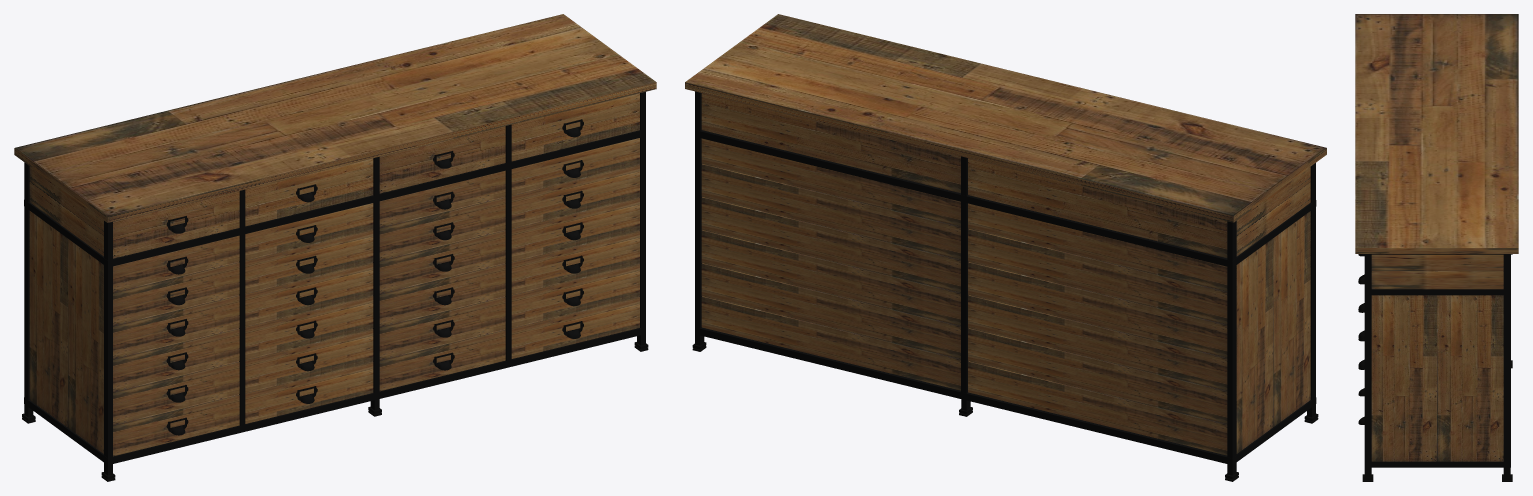
The model's file is example27.glb.
The picture shows the model from 3 angles, left to right: view 1: azimuth 30°, elevation 25°; view 2: azimuth 150°, elevation 25°; view 3: azimuth 270°, elevation 25°; orthographic projection. The views are drawn at different scales.
Parts seen in each view (by area): view 1: столешница, Merged Objects, Merged Objects 1, Merged Objects 5, Merged Objects 4, Merged Objects 3, Merged Objects 2; view 2: столешница, Merged Objects 1, Merged Objects, Merged Objects 4, Merged Objects 5, Merged Objects 3, Merged Objects 2; view 3: столешница, Merged Objects 3, Merged Objects 5, Merged Objects 2.
Boxes of the visible parts, x1,y1,x2,y2 form: столешница: (14, 14, 656, 222); Merged Objects: (379, 138, 639, 391); Merged Objects 1: (113, 203, 373, 456); Merged Objects 5: (22, 92, 648, 481); Merged Objects 4: (113, 93, 639, 258); Merged Objects 3: (29, 211, 103, 453); Merged Objects 2: (29, 166, 103, 256); столешница: (685, 14, 1326, 222); Merged Objects 1: (968, 203, 1227, 455); Merged Objects: (701, 138, 960, 390); Merged Objects 4: (701, 93, 1227, 257); Merged Objects 5: (692, 91, 1318, 481); Merged Objects 3: (1236, 211, 1310, 453); Merged Objects 2: (1236, 167, 1310, 256); столешница: (1355, 14, 1518, 253); Merged Objects 3: (1371, 295, 1503, 461); Merged Objects 5: (1358, 254, 1512, 481); Merged Objects 2: (1371, 254, 1503, 289).
Bounding box in the file's own units: 1.94 × 0.9104 × 0.571.
5 materials, 4 textured.
